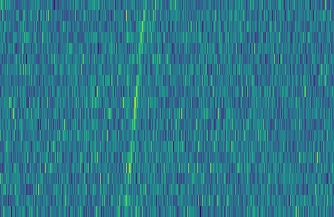signal: (118, 0, 149, 217)
